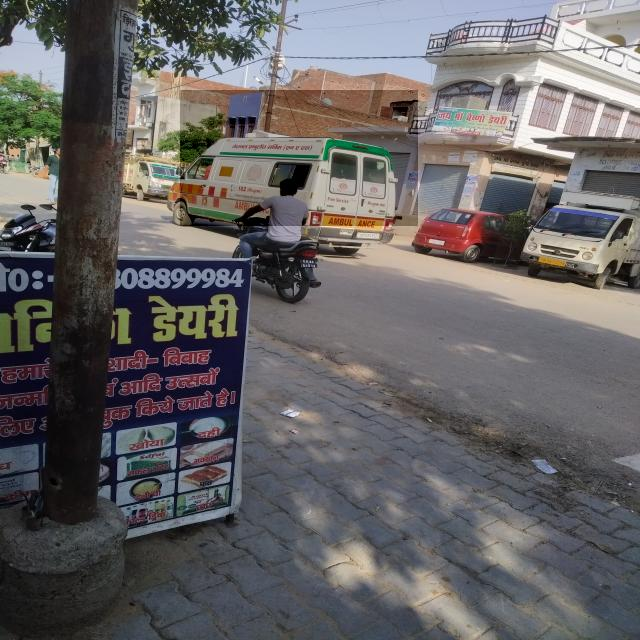Travller: (180, 90, 418, 226)
